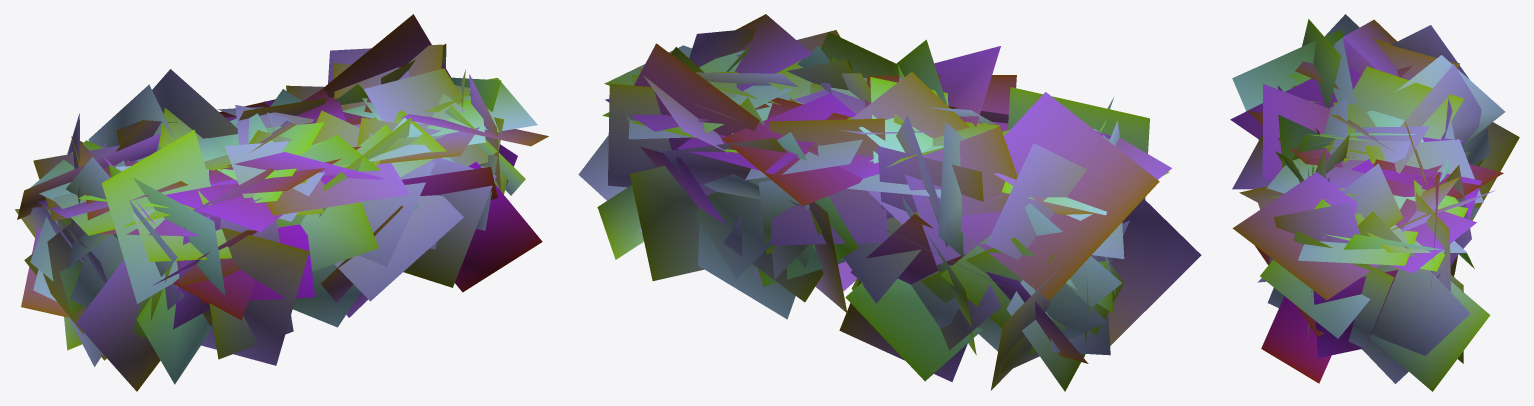
Rendered from tree_planter_box.glb.
3 views of the same model, side by side, from view 1: azimuth 30°, elevation 25°; view 2: azimuth 150°, elevation 25°; view 3: azimuth 270°, elevation 25° (orthographic). The views are drawn at different scales.
Parts seen in each view (by area): view 1: tree_planter_box; view 2: tree_planter_box; view 3: tree_planter_box.
Part boxes in pixels (x1,y1,x2,y2): tree_planter_box: [15, 14, 548, 391]; tree_planter_box: [578, 14, 1201, 391]; tree_planter_box: [1230, 14, 1519, 391].
Bounding box in the file's own units: 1.82 × 0.8591 × 0.9539.
